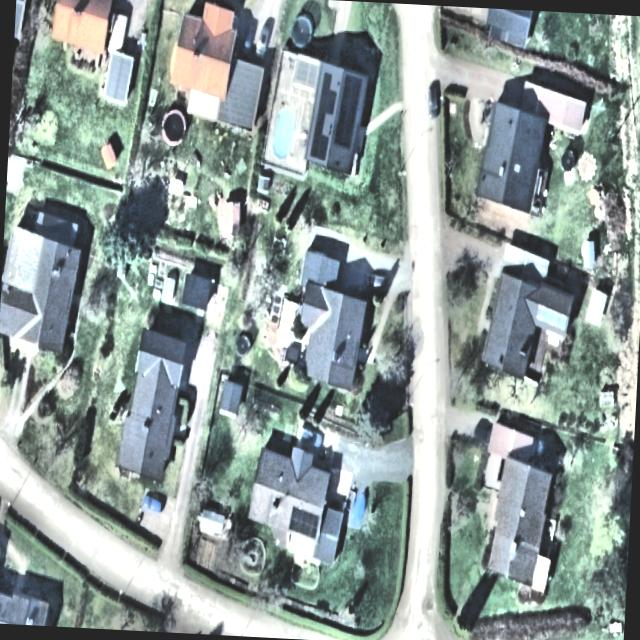roof_pv: (335, 75, 362, 151), (312, 68, 338, 134), (288, 501, 324, 542), (309, 125, 330, 165)
